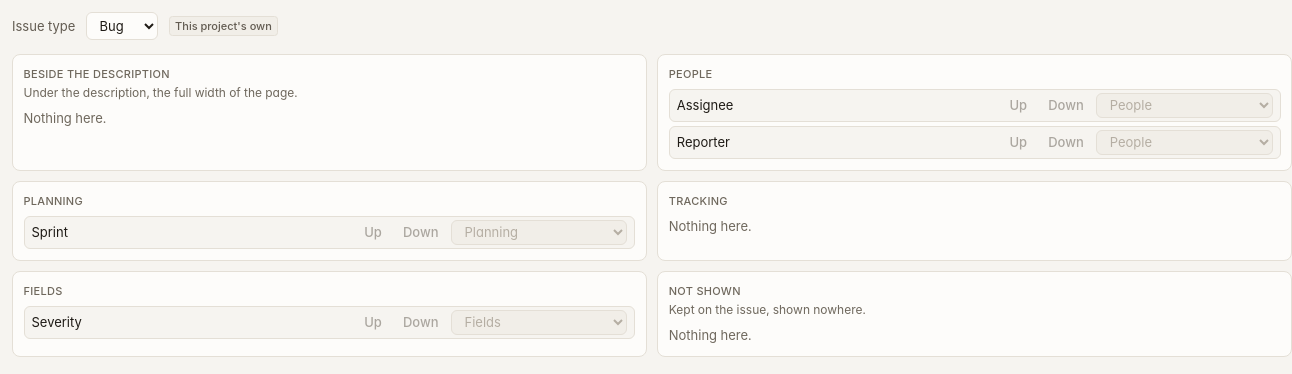
Test: ArrangementEditor › lets a reader pick a type to look at and change nothing
The width and height of the screenshot is (1292, 374).
Expected: the dropdown in the row of "Assignee" is disabled, left=1096, top=93, right=1272, bottom=118
Select "Story" in the dropdown labelled "Issue type": [122, 26] box left=86, top=12, right=158, bottom=40
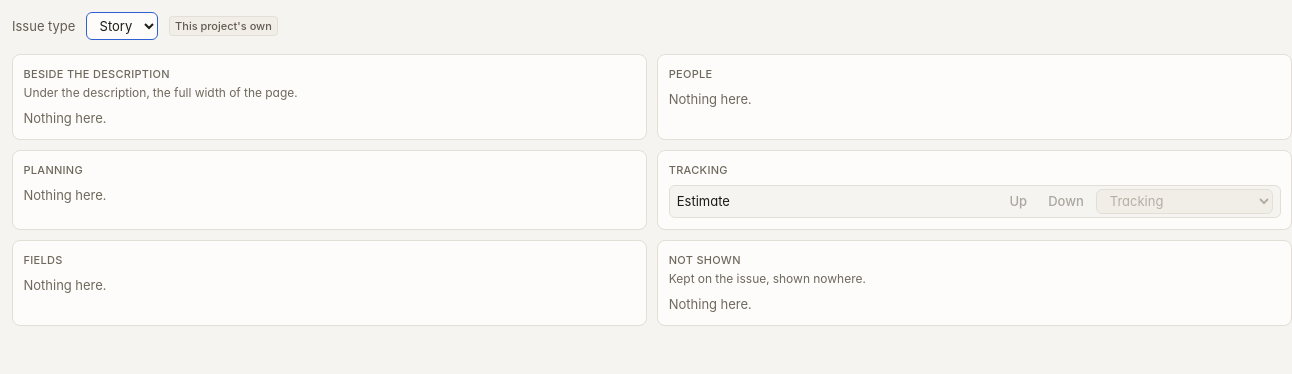
Now the 2nd dropdown is disabled, box left=1096, top=189, right=1272, bottom=214
